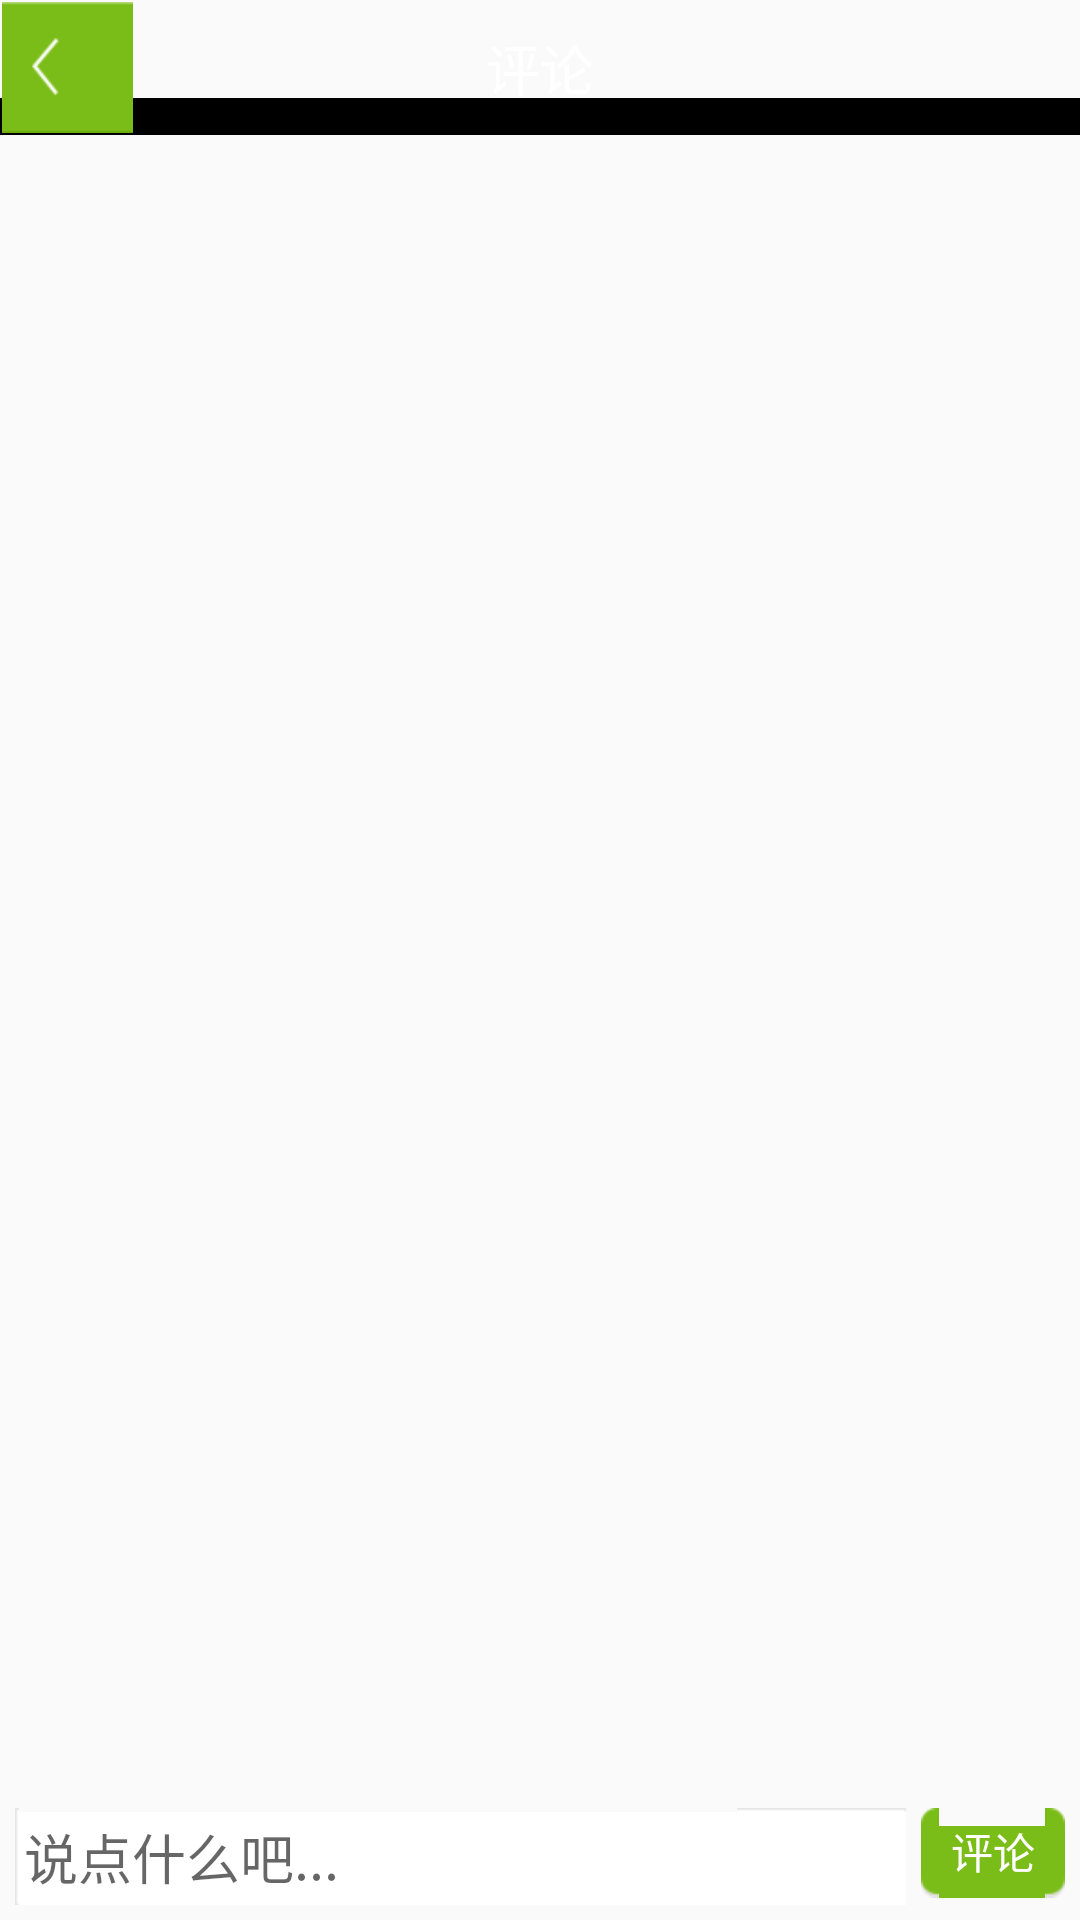

Icon bounding boxes for this 1080×1920 phone screenshot, format (x1, y1, x2, y2):
home back: (0, 2, 169, 133)
